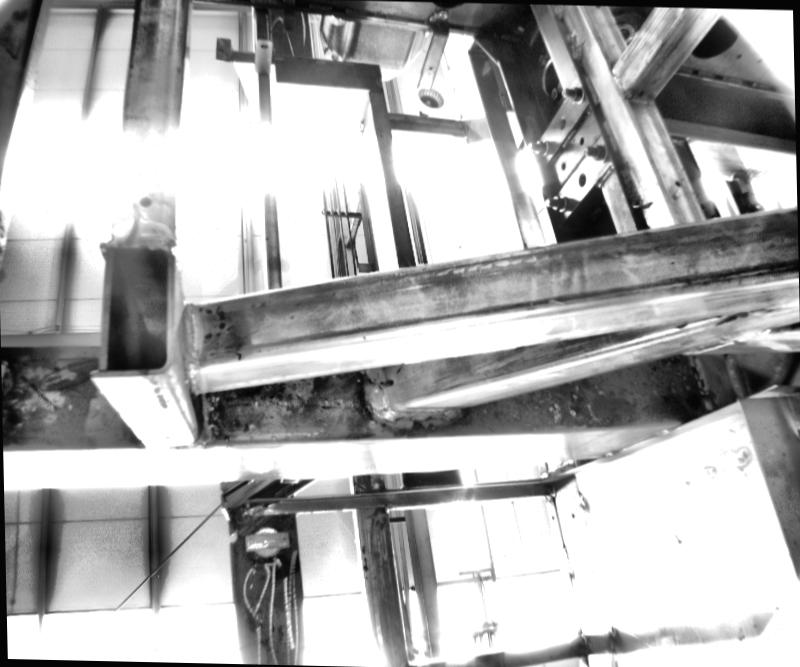bolt: (584, 143, 610, 161), (542, 193, 568, 209), (561, 85, 585, 101), (526, 137, 548, 153)
bracket: (515, 75, 620, 220), (416, 8, 450, 90), (252, 34, 276, 75)
hole: (378, 374, 396, 389), (136, 192, 150, 205), (574, 171, 586, 184), (556, 114, 564, 128), (557, 160, 567, 170), (578, 133, 586, 142), (674, 178, 682, 186), (260, 41, 266, 47), (570, 511, 574, 518), (427, 65, 432, 69), (593, 5, 601, 7), (550, 513, 553, 517)
welding: (180, 294, 202, 381), (362, 362, 396, 415), (370, 400, 457, 420), (427, 8, 447, 21)
